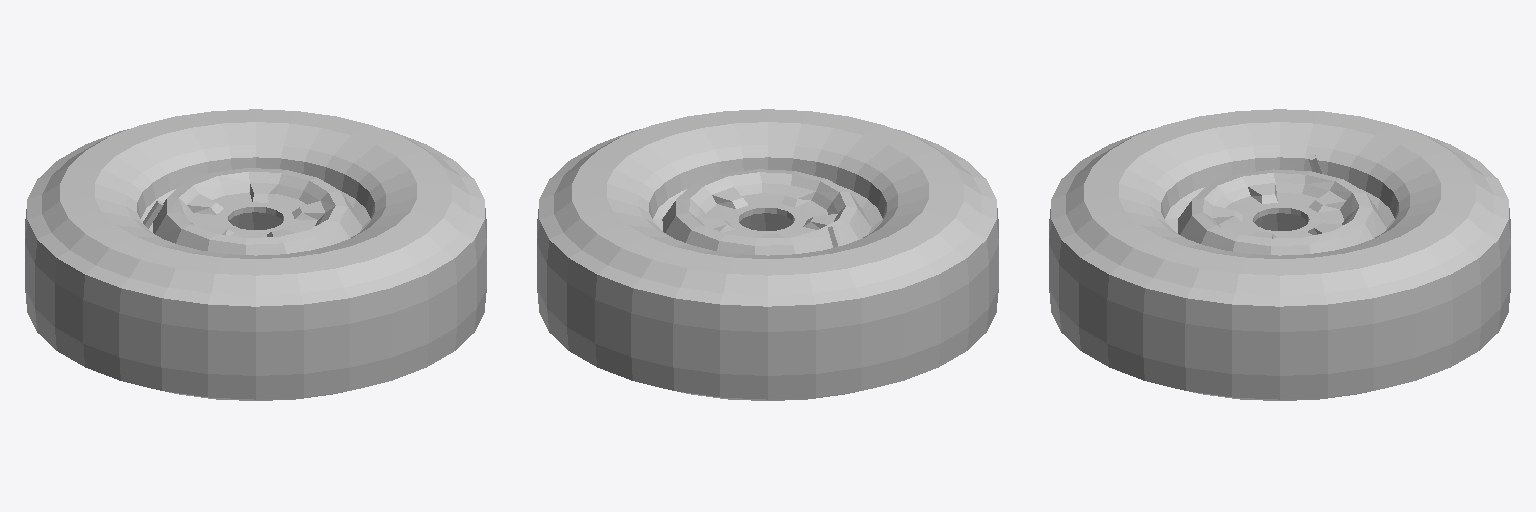
Rendered from Tire.obj.
The picture shows the model from 3 angles: view 1: azimuth 30°, elevation 25°; view 2: azimuth 150°, elevation 25°; view 3: azimuth 270°, elevation 25°; orthographic projection.
Visible parts, largest first — view 1: hoxsvl_wheel_v1; view 2: hoxsvl_wheel_v1; view 3: hoxsvl_wheel_v1.
Part boxes in pixels (x1,y1,x2,y2): hoxsvl_wheel_v1: (25,109,486,400); hoxsvl_wheel_v1: (537,109,998,400); hoxsvl_wheel_v1: (1049,109,1510,400).
Size of the model in its own units: 2.39 by 0.7429 by 2.38.